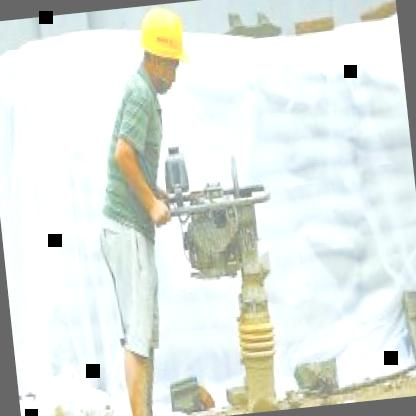helmet: (133, 2, 194, 95)
